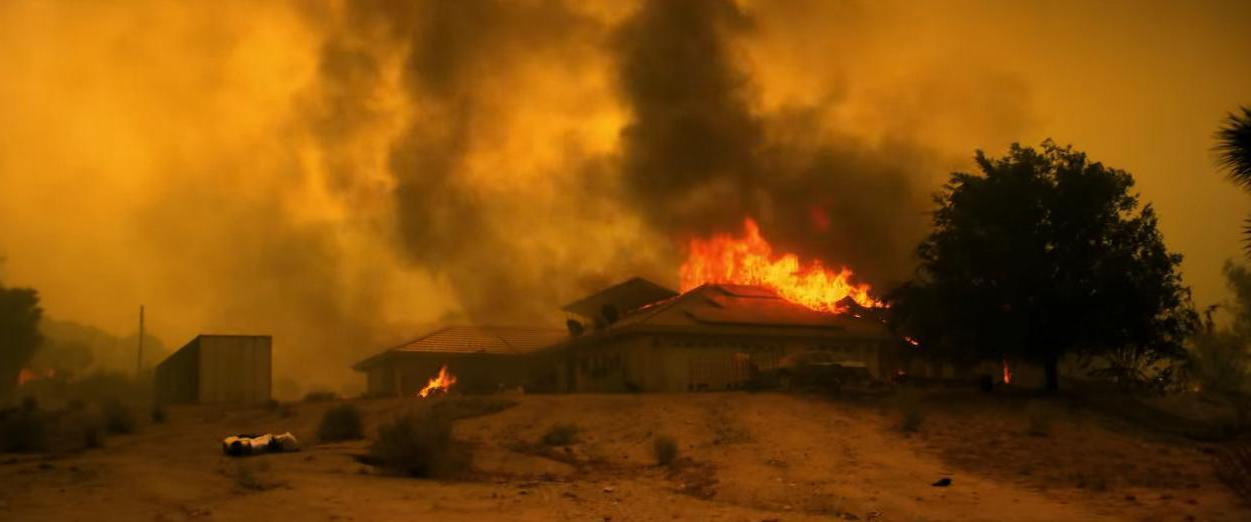Fire: (674, 216, 896, 322), (416, 362, 459, 401)
